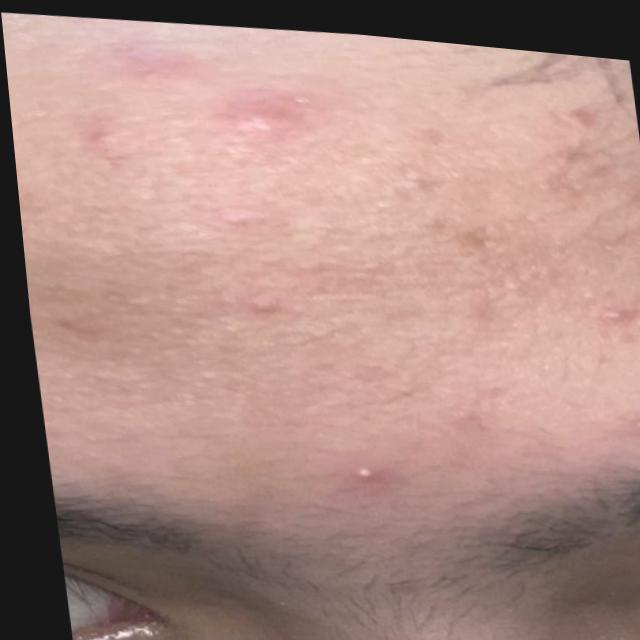papule: (60, 31, 335, 156)
pustule: (585, 283, 636, 318), (332, 449, 378, 477)
